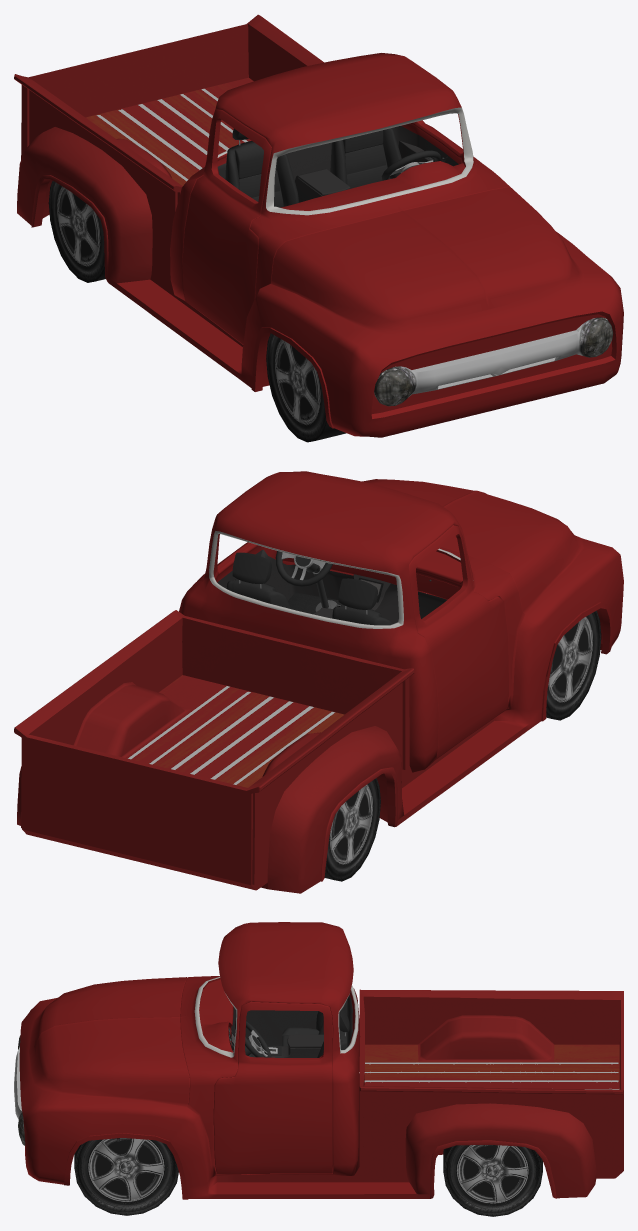
File: X100_NoOpacity.glb
The picture shows the model from 3 angles, top to bottom: view 1: azimuth 30°, elevation 25°; view 2: azimuth 150°, elevation 25°; view 3: azimuth 270°, elevation 25°; orthographic projection. The views are drawn at different scales.
Visible parts, largest first — view 1: X100; view 2: X100; view 3: X100.
Boxes of the visible parts, x1,y1,x2,y2 form: X100: (14, 14, 623, 442); X100: (14, 471, 623, 893); X100: (14, 922, 623, 1216).
Size of the model in its own units: 2.01 by 1.62 by 4.31.
Materials: 4 (4 with a texture image).
